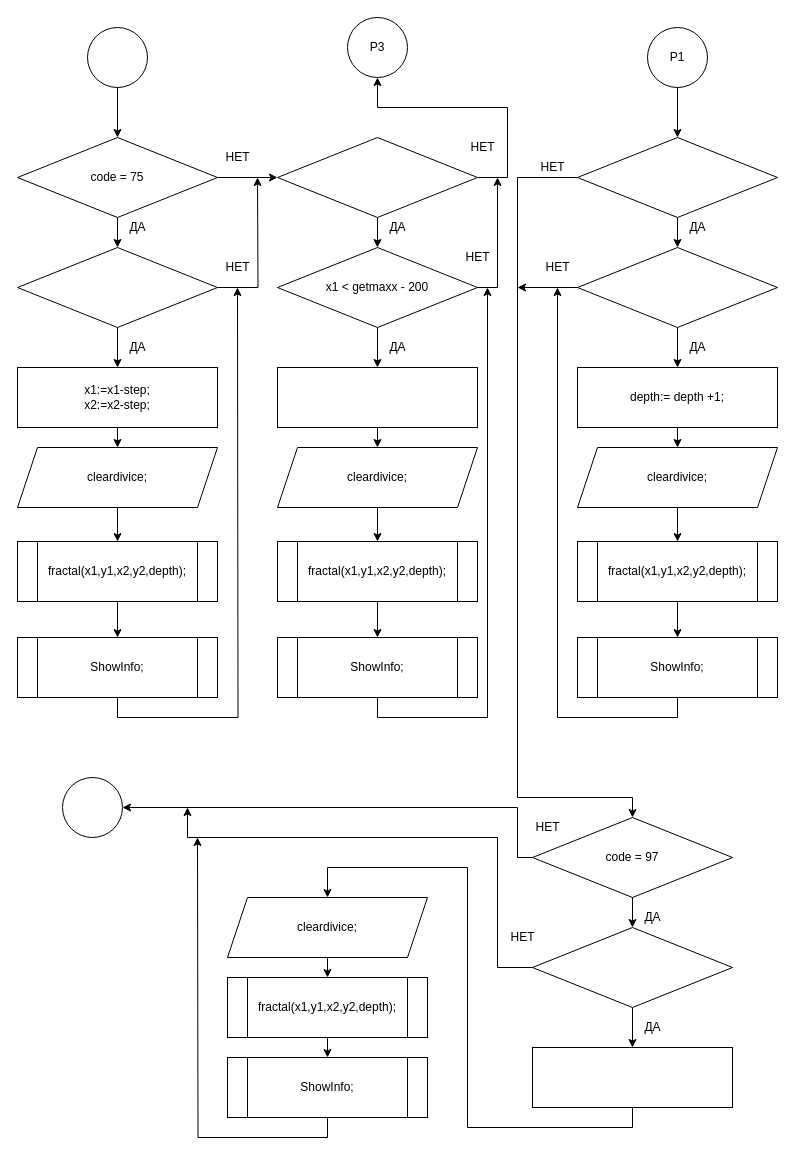
Some shapes in this 795 by 1163 pixel diagram are drawn without their labels. The shapes that lost their labels are listed below. From the top down, each one's centre as x and y in pixels, then its label:
[117,57]: P2
[377,177]: code = 77
[677,177]: code = 113
[117,287]: x2 > 200
[677,287]: depth < 6
[377,397]: x1:=x1+step; x2:=x2+step;
[92,807]: P4
[632,967]: depth > 0
[632,1077]: depth:= depth + 1;
